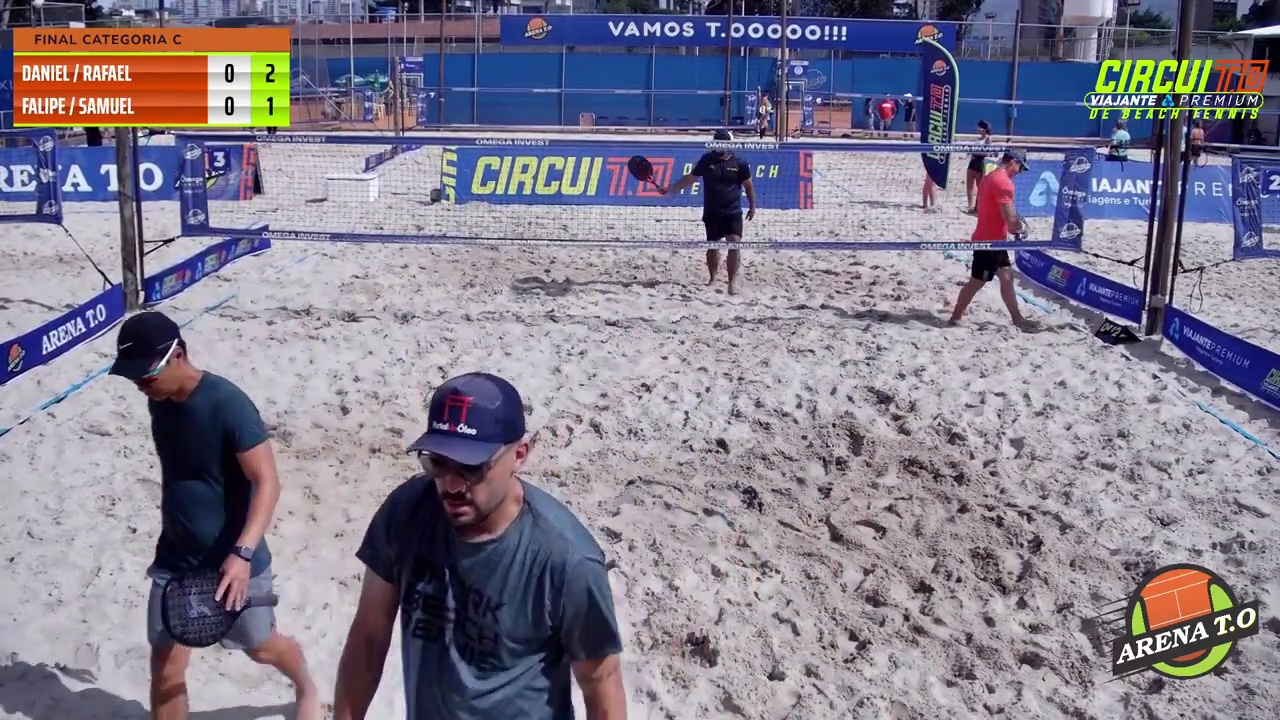court_line: (643, 0, 786, 370)
